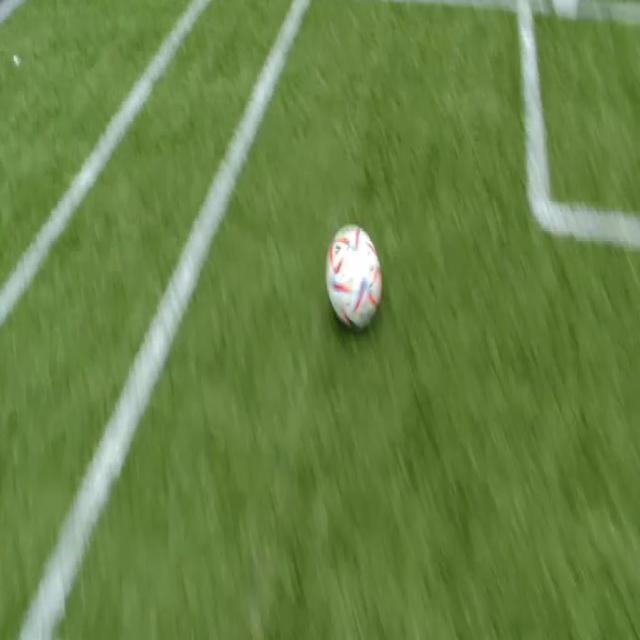ball: (326, 225, 382, 328)
